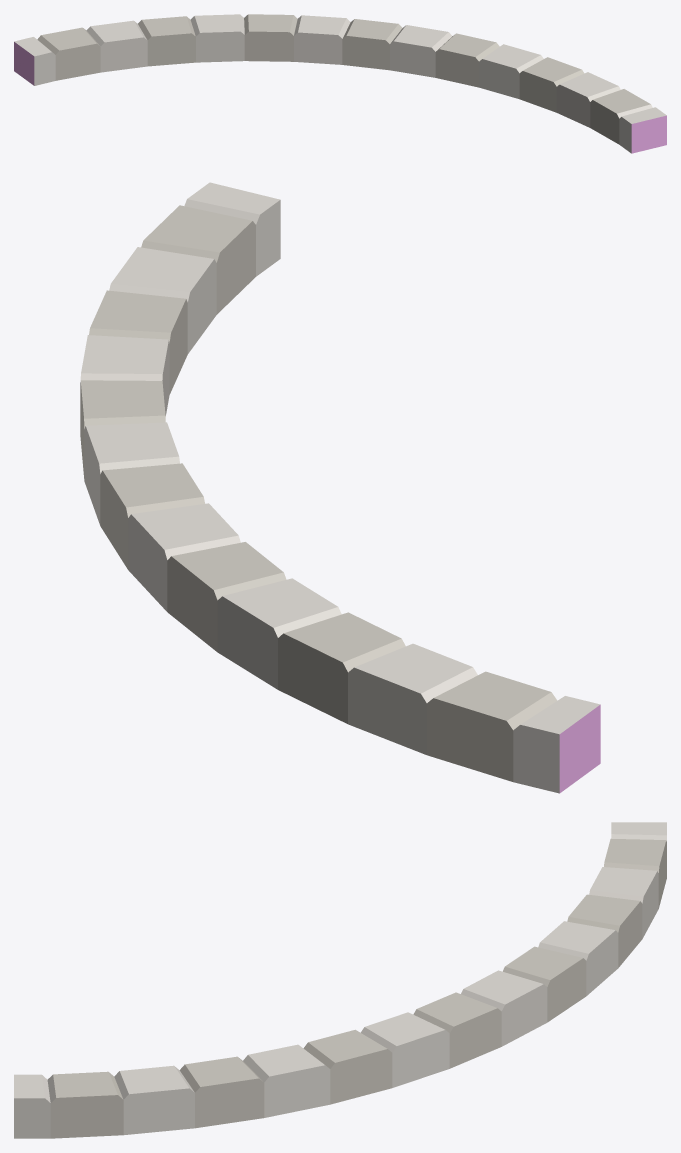
Rendered from Path_Edging_Stones_Curve_4x4.glb.
3 views of the same model, one above another, from view 1: azimuth 30°, elevation 25°; view 2: azimuth 150°, elevation 25°; view 3: azimuth 270°, elevation 25° (orthographic). The views are drawn at different scales.
Parts seen in each view (by area): view 1: Path_Edging_Stones_Curve_4x4; view 2: Path_Edging_Stones_Curve_4x4; view 3: Path_Edging_Stones_Curve_4x4.
Boxes of the visible parts, x1,y1,x2,y2 form: Path_Edging_Stones_Curve_4x4: [14, 14, 666, 153]; Path_Edging_Stones_Curve_4x4: [80, 182, 600, 793]; Path_Edging_Stones_Curve_4x4: [14, 822, 666, 1138].
Size of the model in its own units: 366 by 25 by 366.
